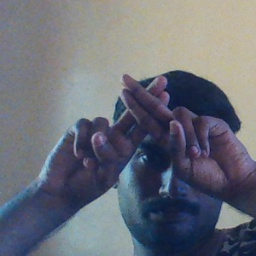F: (90, 67, 209, 170)
